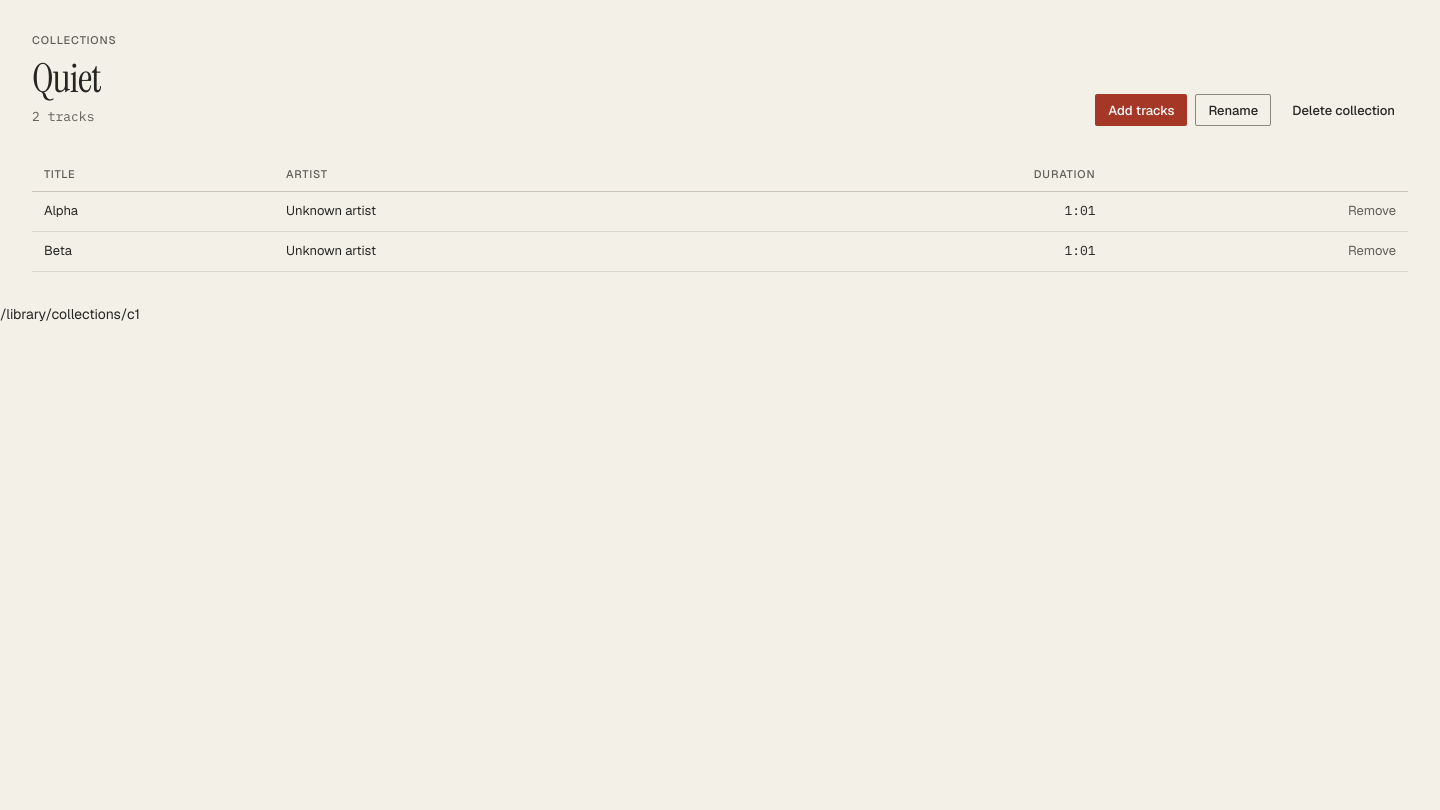
Test: Collections › renames in place
Step 1. Click the button "Rename" → (1233, 110), box top-left (1195, 94), bottom-right (1271, 126)
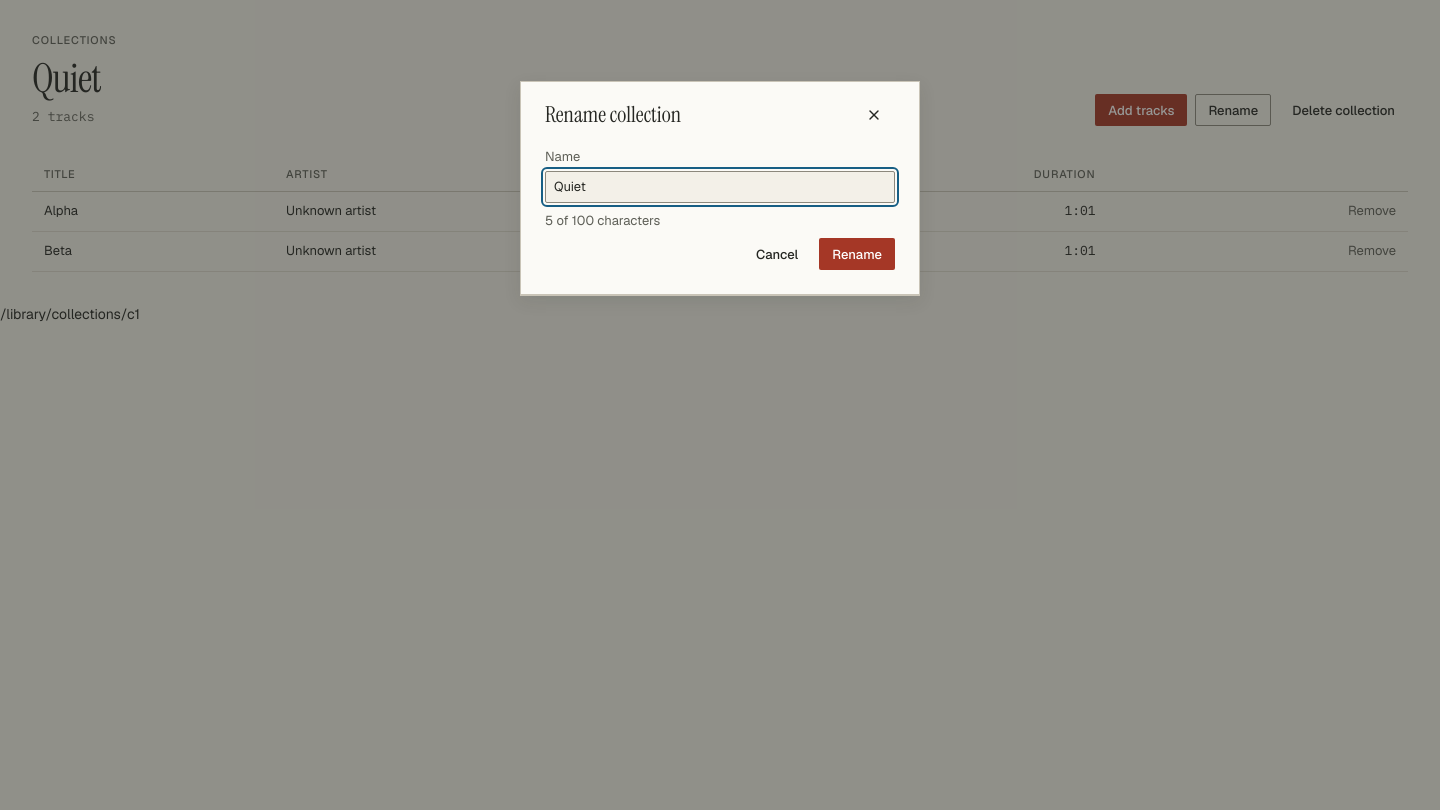
Check: the field labelled "Name" holds "Quiet"
Step 2. Replace the text in the field labelled "Name" with "Loud" → (720, 186), box top-left (545, 170), bottom-right (895, 202)
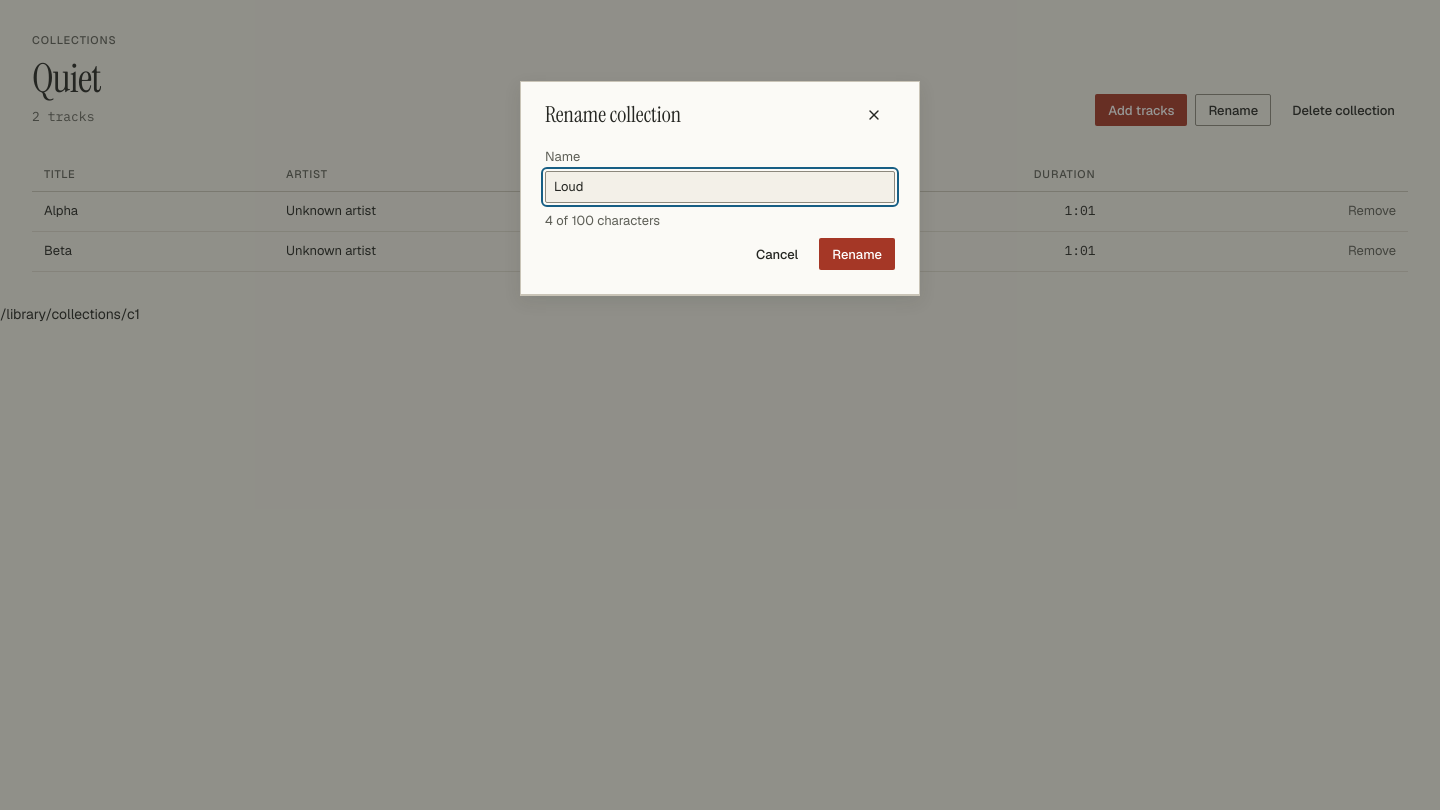
Step 3. Click the button "Rename" → (857, 254), box top-left (819, 238), bottom-right (895, 270)
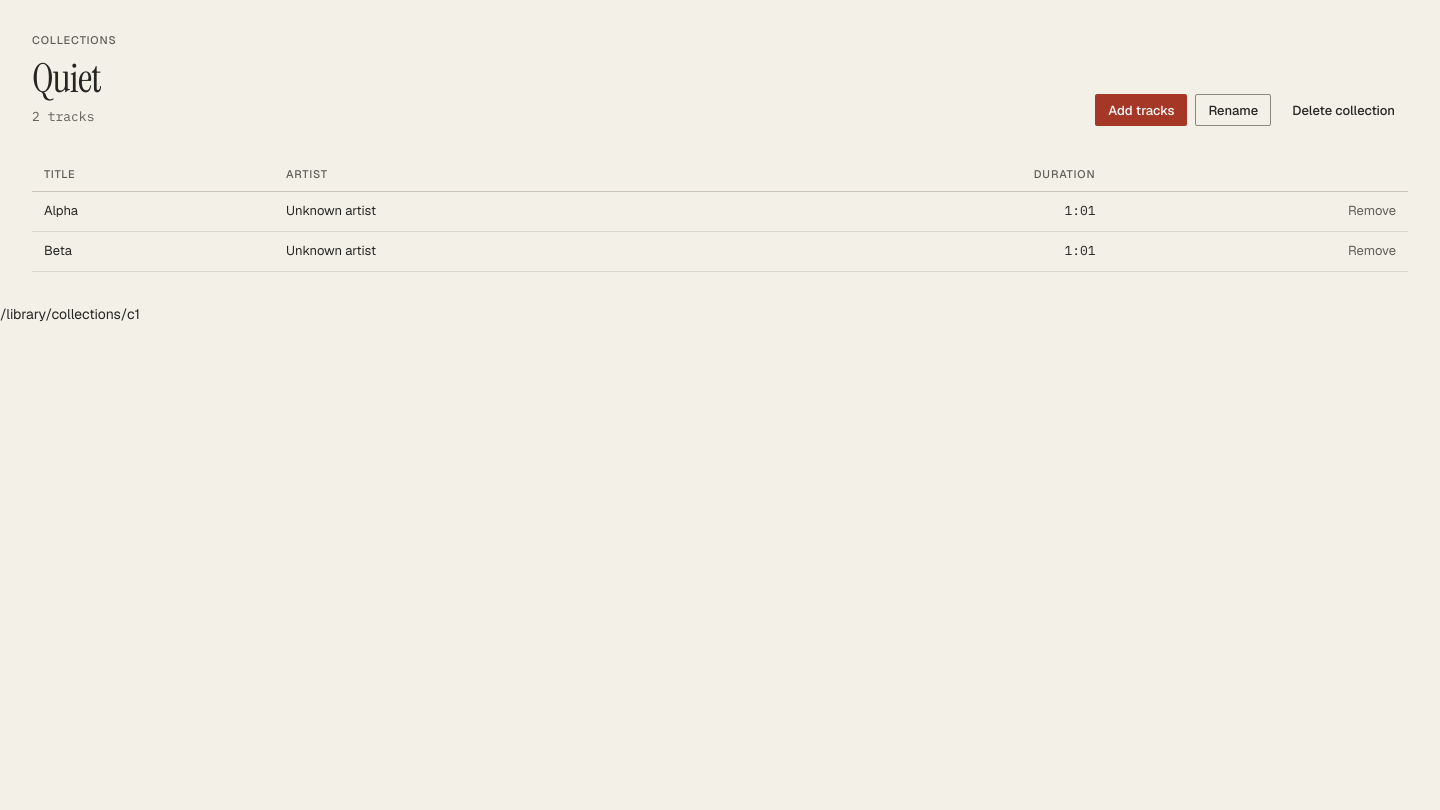
Check: the dialog is gone
